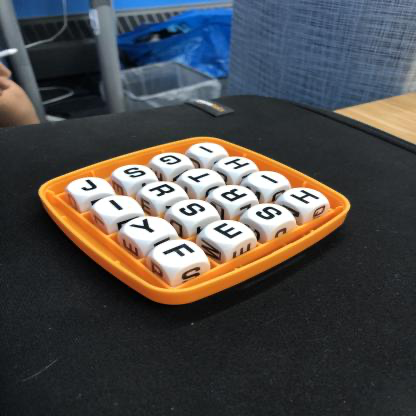e: (211, 221, 250, 240)
f: (159, 241, 198, 264)
g: (157, 151, 188, 171)
h: (287, 188, 327, 214), (219, 156, 255, 172)
i: (102, 196, 134, 217), (191, 142, 222, 161), (253, 171, 283, 189)
j: (74, 178, 107, 198)
r: (146, 181, 181, 203), (217, 187, 255, 207)
s: (176, 198, 215, 221), (254, 203, 289, 223), (120, 164, 151, 184)
t: (185, 171, 215, 186)
y: (128, 217, 165, 237)
